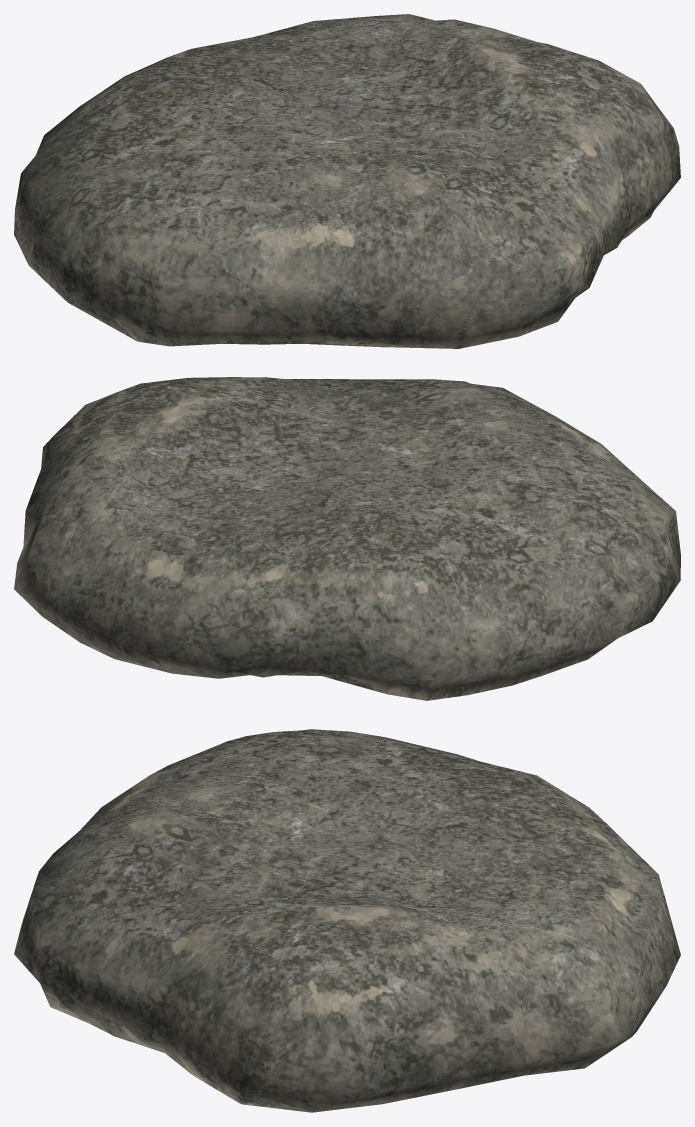
Rendered from Stone4.fbx.
3 renders of one model, top to bottom at view 1: azimuth 30°, elevation 25°; view 2: azimuth 150°, elevation 25°; view 3: azimuth 270°, elevation 25°, orthographic. The views are drawn at different scales.
Visible parts, largest first — view 1: Stone4; view 2: Stone4; view 3: Stone4.
Part boxes in pixels (x1,y1,x2,y2): Stone4: (14, 14, 680, 348); Stone4: (14, 377, 680, 700); Stone4: (14, 729, 680, 1112).
Bounding box in the file's own units: 0.7855 × 0.186 × 0.713.
